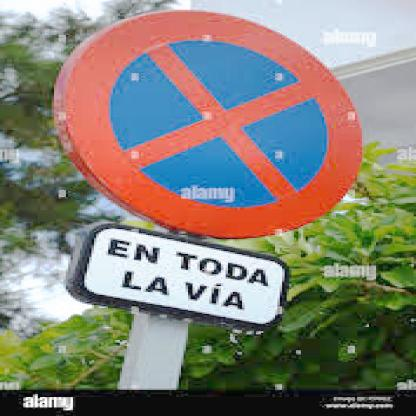No stopping: (48, 8, 364, 240)
